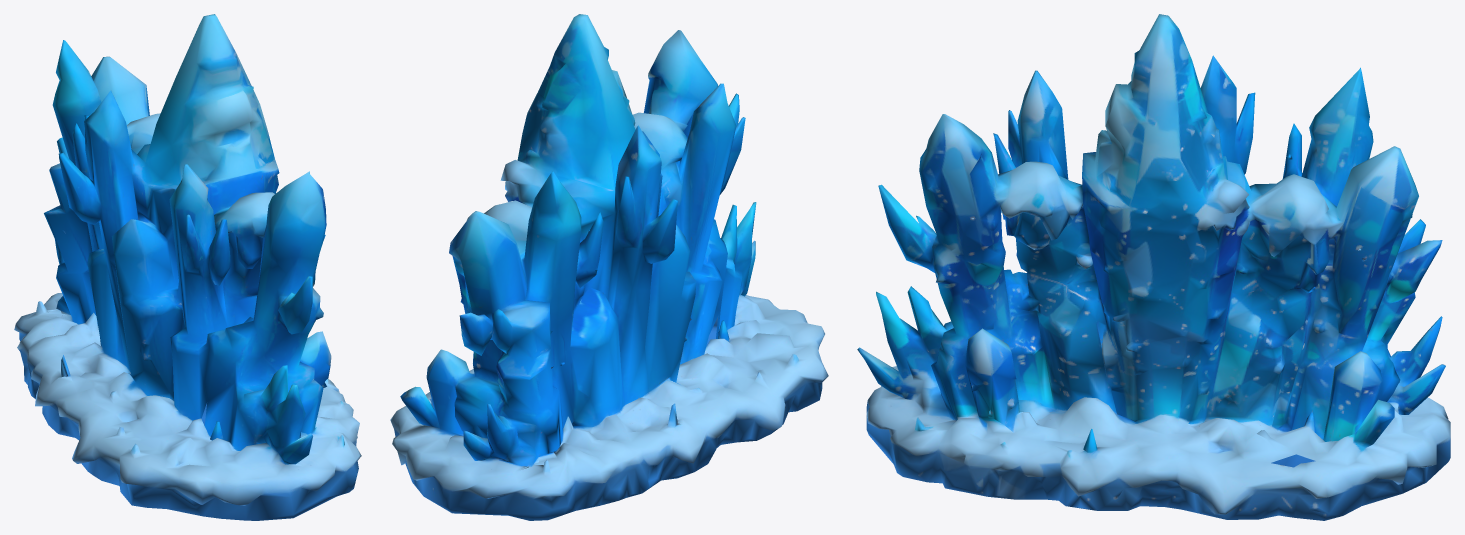
3 views of the same model, side by side, from view 1: azimuth 30°, elevation 25°; view 2: azimuth 150°, elevation 25°; view 3: azimuth 270°, elevation 25° (orthographic). The views are drawn at different scales.
Visible parts, largest first — view 1: tripo_node_2e508056-25c0-459f-a106-b9ada6b9f820; view 2: tripo_node_2e508056-25c0-459f-a106-b9ada6b9f820; view 3: tripo_node_2e508056-25c0-459f-a106-b9ada6b9f820.
Boxes of the visible parts, bbox=[...] form: tripo_node_2e508056-25c0-459f-a106-b9ada6b9f820: bbox=[14, 14, 361, 520]; tripo_node_2e508056-25c0-459f-a106-b9ada6b9f820: bbox=[390, 14, 828, 520]; tripo_node_2e508056-25c0-459f-a106-b9ada6b9f820: bbox=[857, 14, 1450, 520].
Bounding box in the file's own units: 0.6204 × 0.8219 × 0.9922.
1 material, 1 textured.
